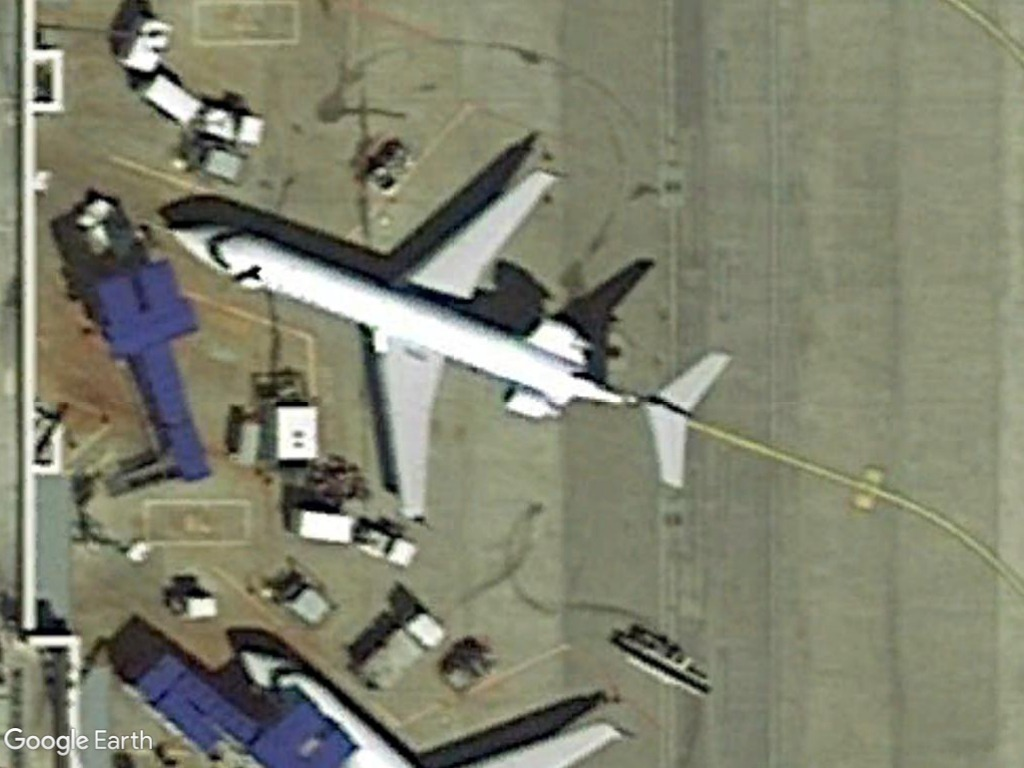chartered: (165, 161, 732, 535)
